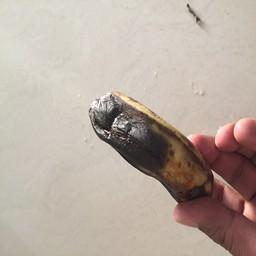Bad_banana: (90, 88, 219, 208)
